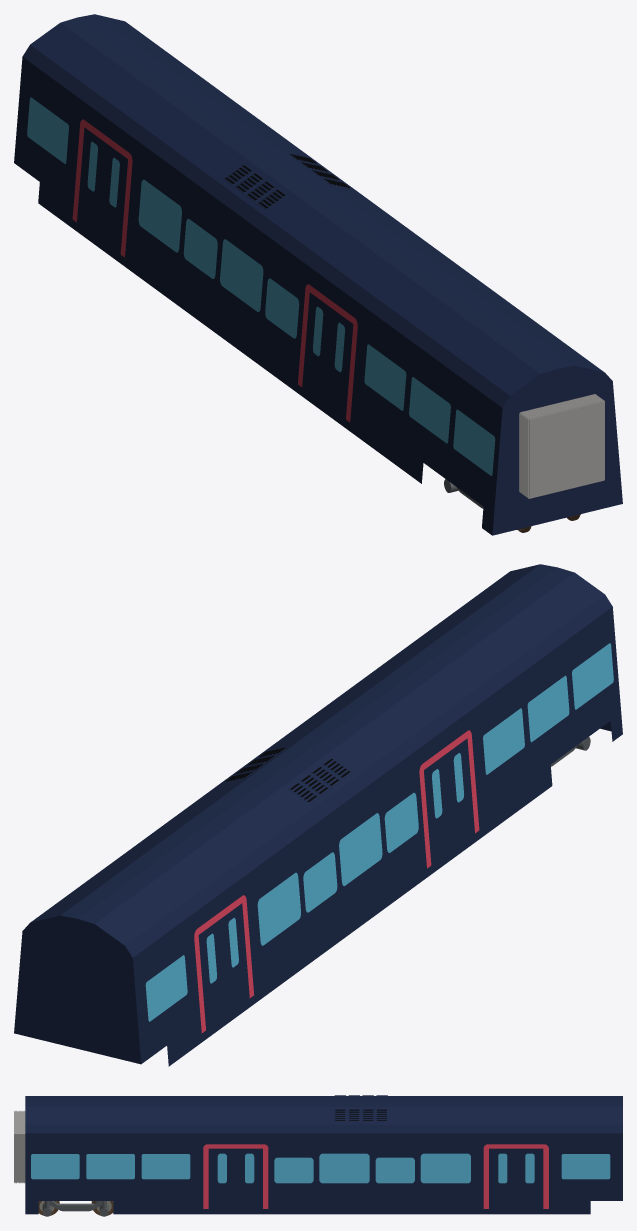
File: type_76_wagon_1.fbx
3 renders of one model, top to bottom at view 1: azimuth 30°, elevation 25°; view 2: azimuth 150°, elevation 25°; view 3: azimuth 270°, elevation 25°, orthographic. The views are drawn at different scales.
Parts seen in each view (by area): view 1: Wagon 1; view 2: Wagon 1; view 3: Wagon 1.
Part boxes in pixels (bbox=[...]): Wagon 1: bbox=[14, 14, 622, 535]; Wagon 1: bbox=[14, 564, 622, 1066]; Wagon 1: bbox=[14, 1095, 622, 1216].
Bounding box in the file's own units: 341 × 426 × 2215.
